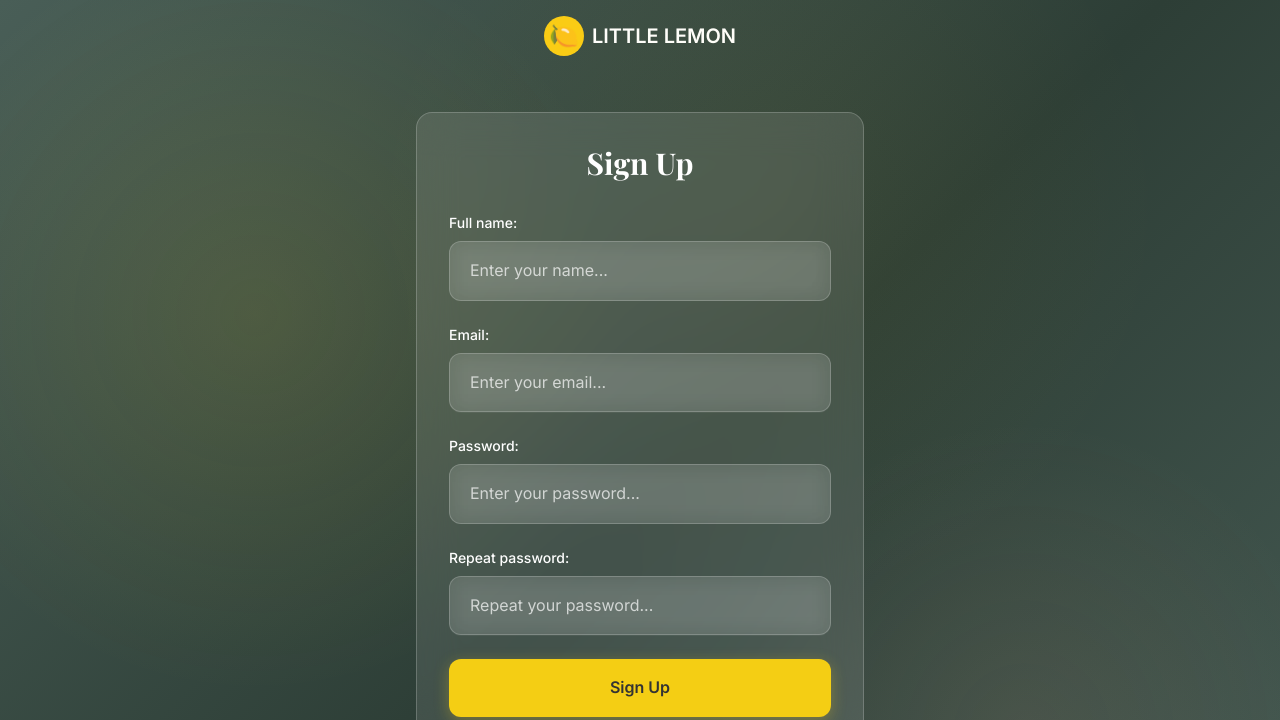
Test: SignUpForm › validates empty form fields
# Submit empty form
Click the button "Sign Up". click: (640, 688)
box: [449,659,831,717]
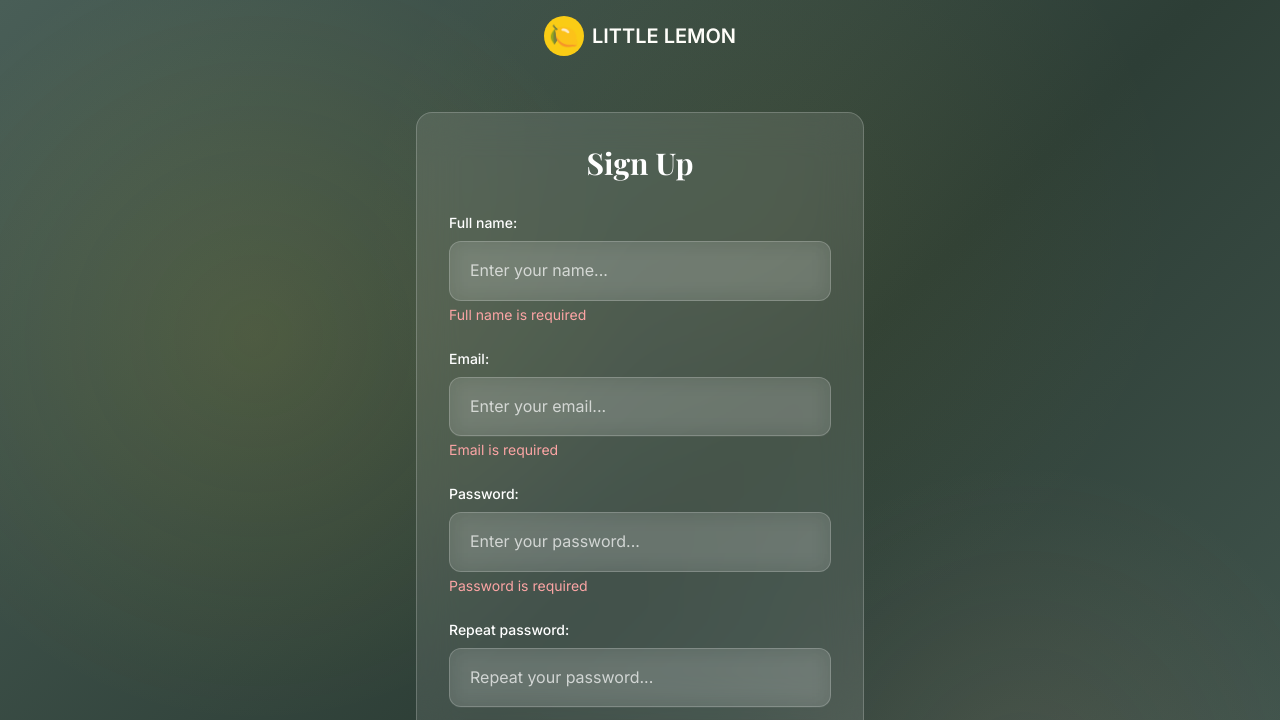
Expected: the text "Full name is required" is shown, [449,306,586,323]
Expected: the text "Email is required" is shown, [449,441,558,458]
Expected: the text "Password is required" is shown, [449,577,588,594]
